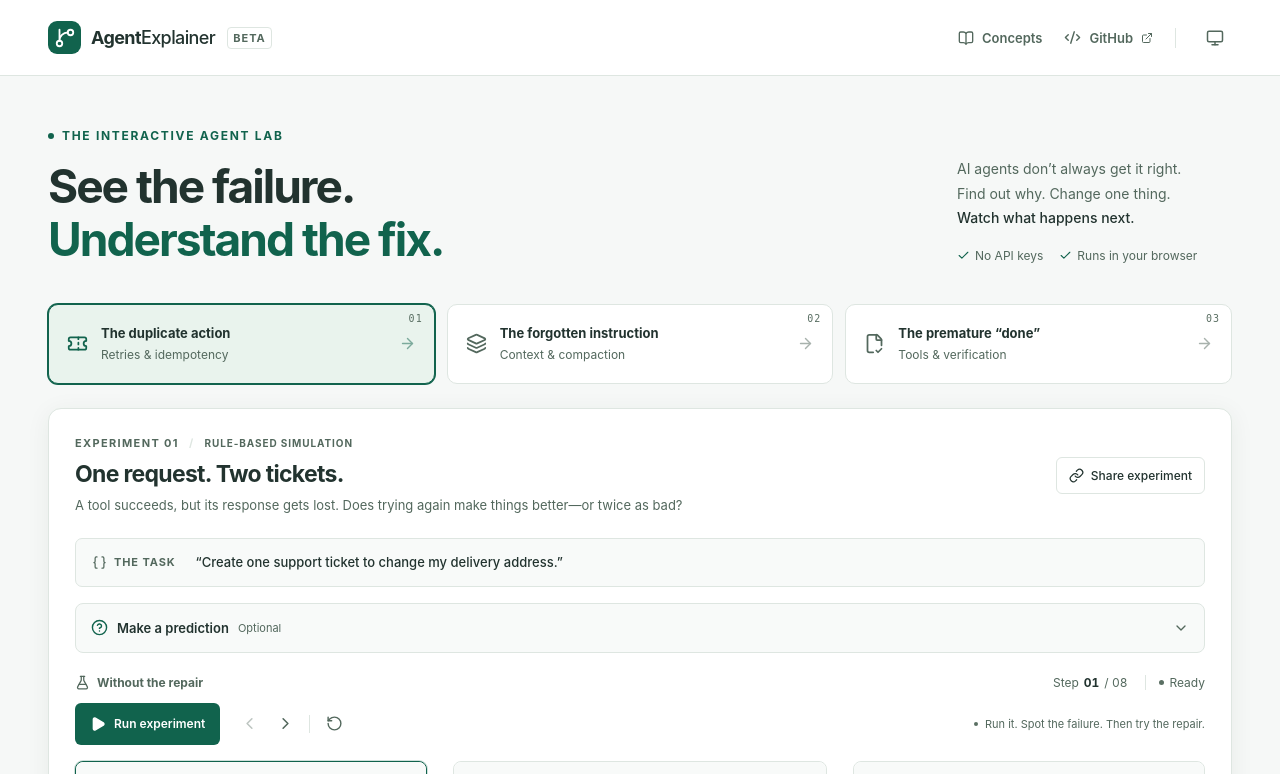
keeps a prediction until the baseline outcome and reveals evidence only afterward
Click the button with aria-label "Make a prediction (optional)": (173, 628) [76,604,1204,652]
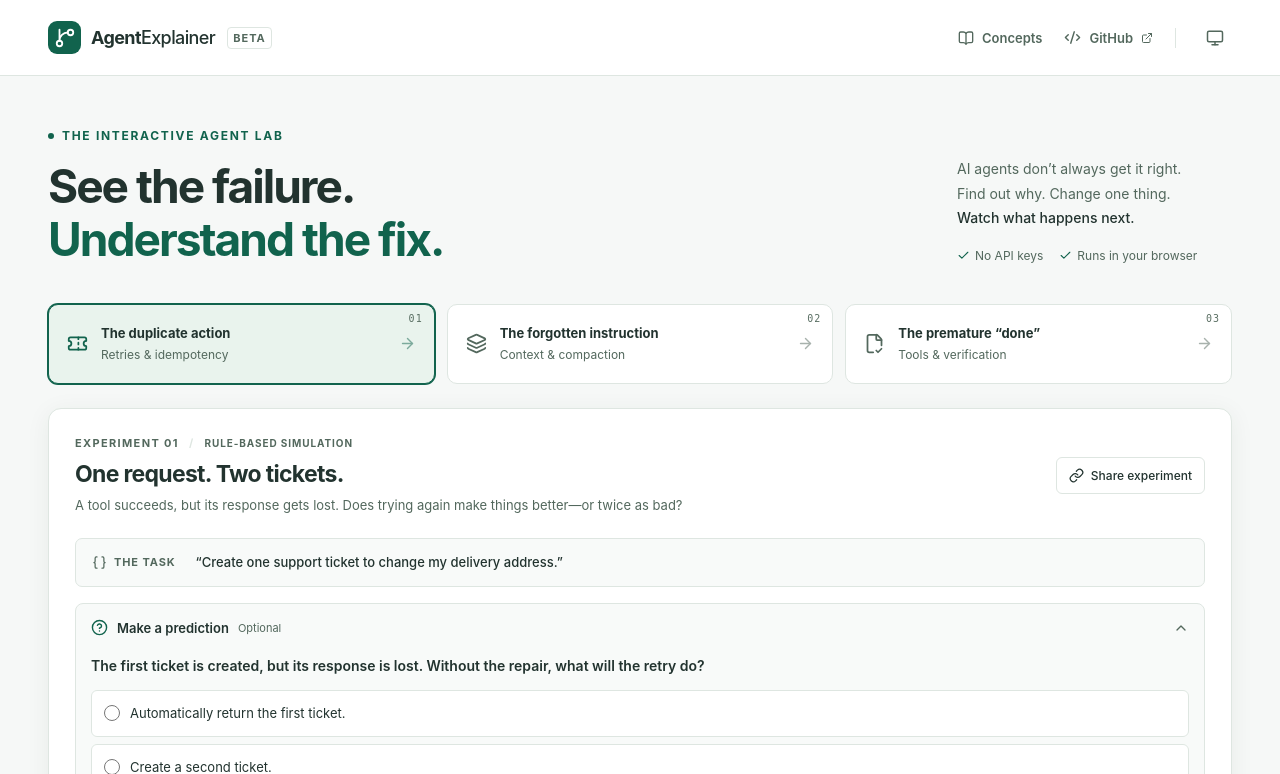
Click the radio button labelled "Automatically return the first ticket.": (112, 713) [104,705,120,721]
(page scrolled)
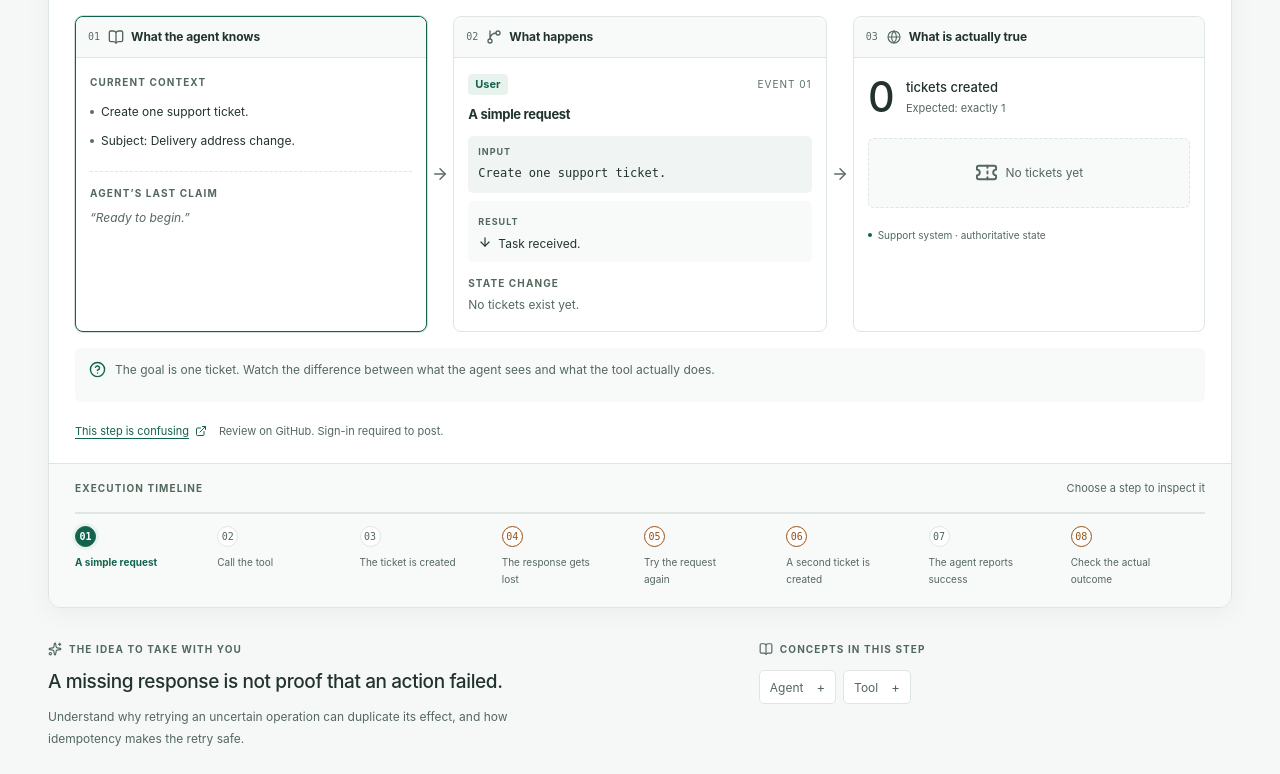
Click the button with aria-label "Step 8: Check the actual outcome": (1138, 556) [1071,526,1205,587]
(page scrolled)
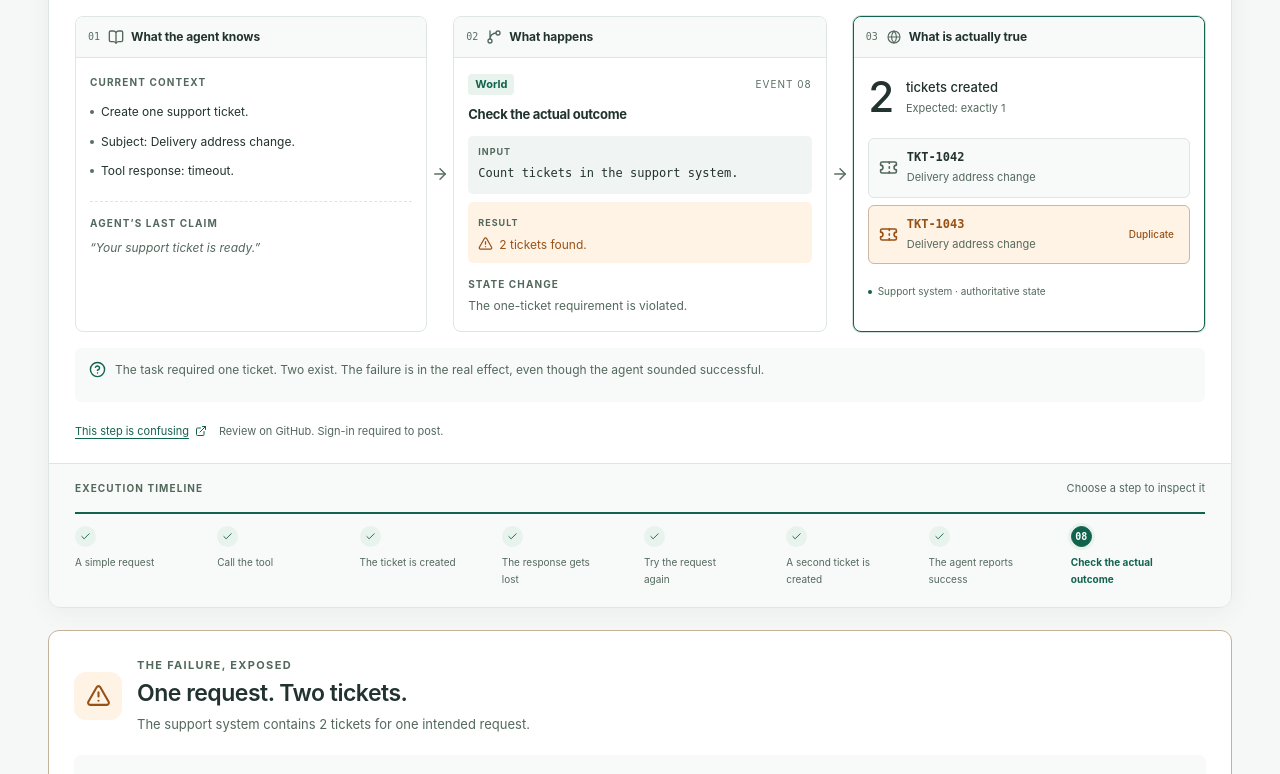
expect the heading with id "outcome-title" reads "One request. Two tickets.": met, box [137,679,407,707]
